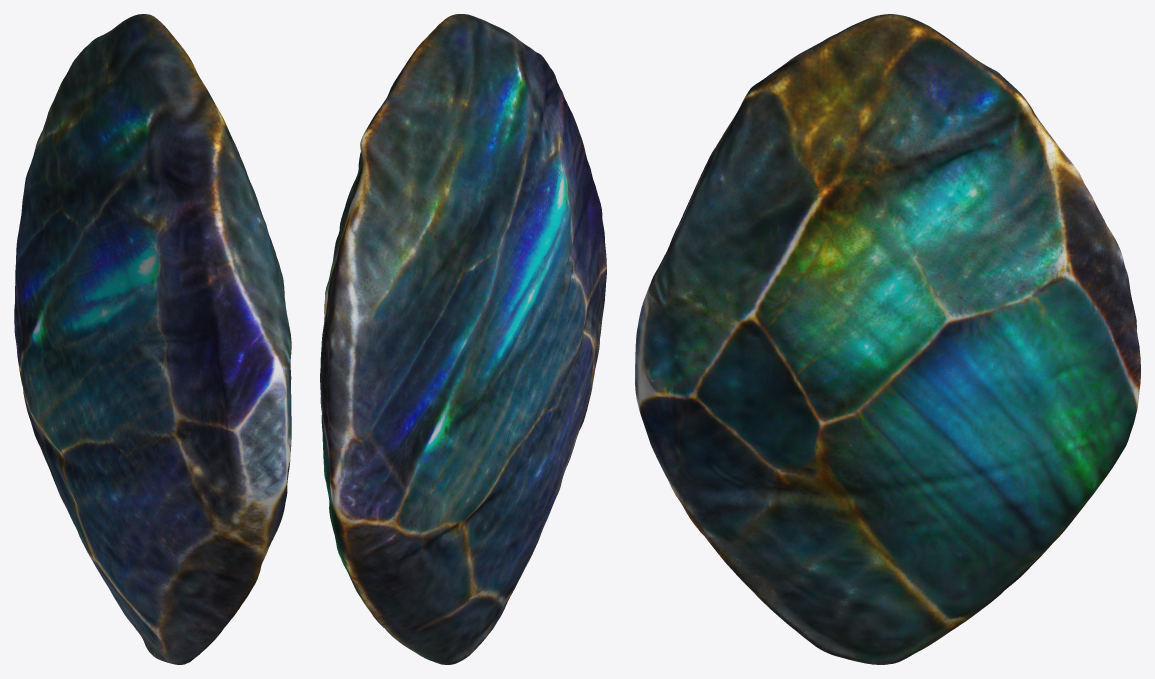
The model's file is labradorit.glb.
3 renders of one model, left to right at view 1: azimuth 30°, elevation 25°; view 2: azimuth 150°, elevation 25°; view 3: azimuth 270°, elevation 25°, orthographic. The views are drawn at different scales.
Parts seen in each view (by area): view 1: geometry_0; view 2: geometry_0; view 3: geometry_0.
Boxes of the visible parts, <box> form: geometry_0: <box>14,14,291,664</box>; geometry_0: <box>320,14,606,664</box>; geometry_0: <box>635,14,1140,664</box>.
Size of the model in its own units: 0.1327 by 0.6057 by 0.428.
Materials: 1 (1 with a texture image).
